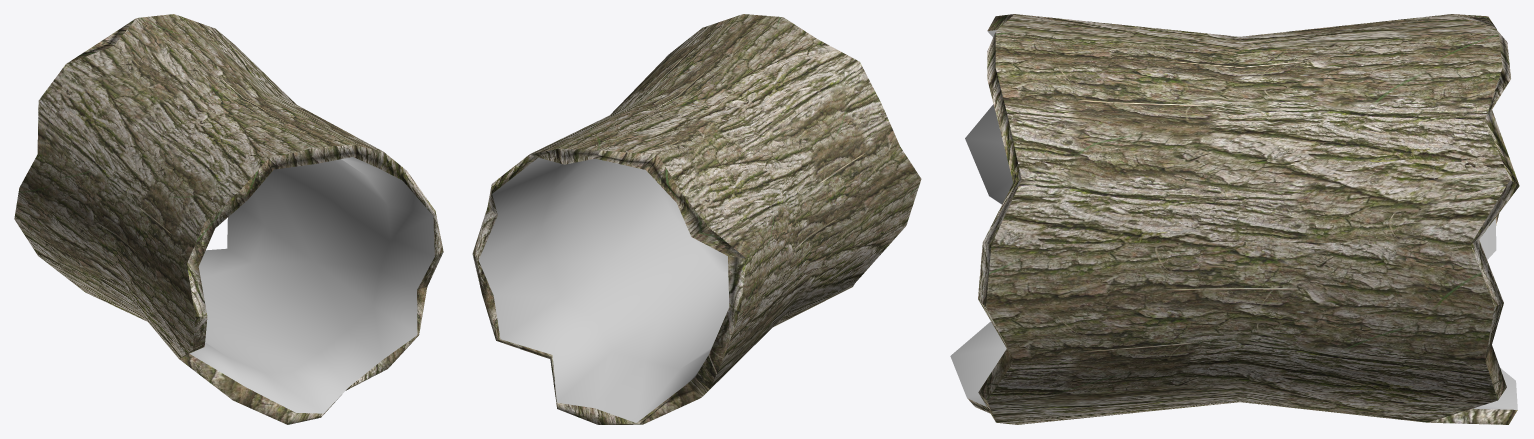
File: log_001.fbx
3 views of the same model, side by side, from view 1: azimuth 30°, elevation 25°; view 2: azimuth 150°, elevation 25°; view 3: azimuth 270°, elevation 25° (orthographic). The views are drawn at different scales.
Visible parts, largest first — view 1: log; view 2: log; view 3: log.
Part boxes in pixels (x1,y1,x2,y2): log: [14, 14, 443, 424]; log: [472, 14, 921, 424]; log: [950, 14, 1519, 424].
Bounding box in the file's own units: 8.84 × 8.84 × 12.15.
